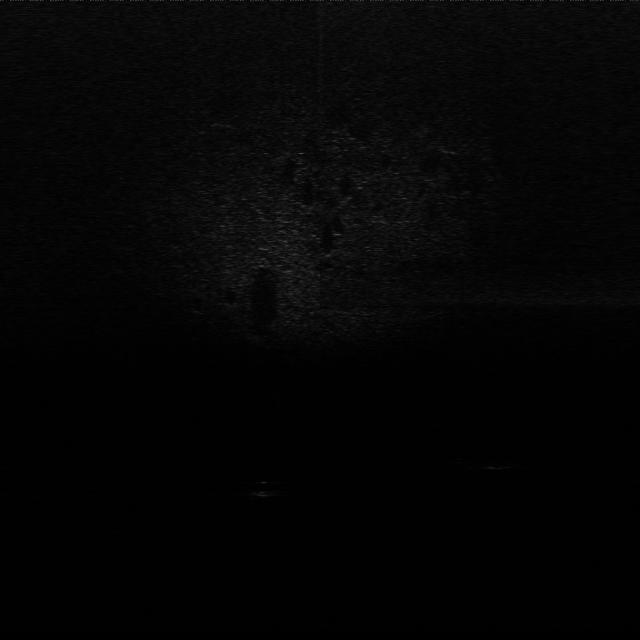ball: (247, 474, 279, 499)
human body: (477, 460, 538, 483)
